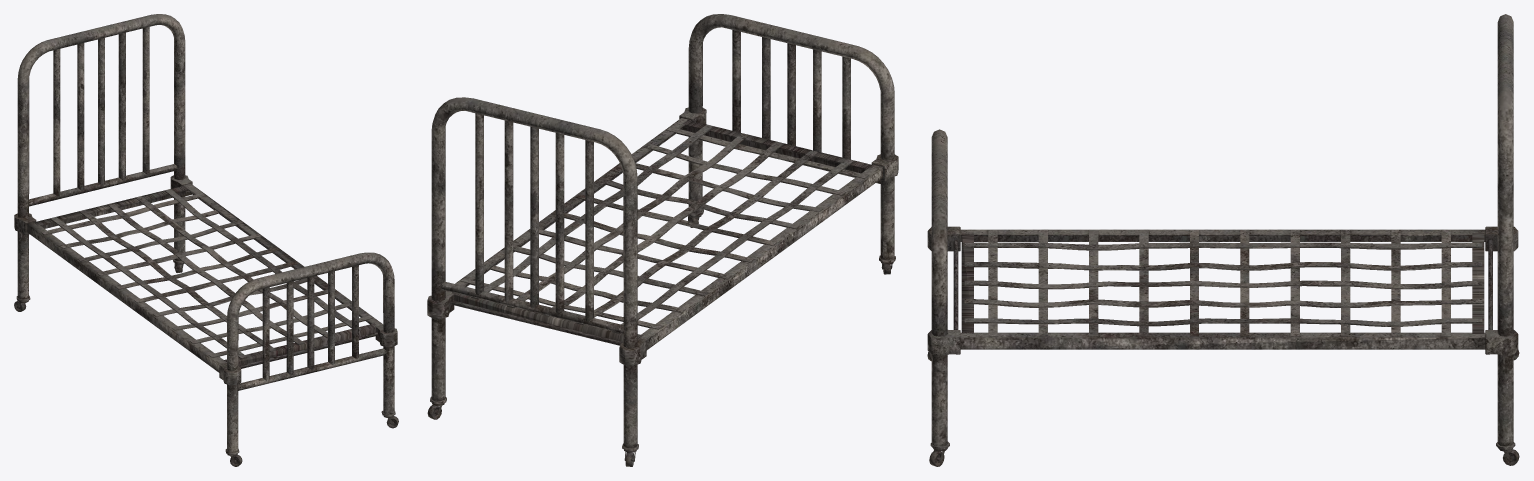
File: prop_bed.glb
3 views of the same model, side by side, from view 1: azimuth 30°, elevation 25°; view 2: azimuth 150°, elevation 25°; view 3: azimuth 270°, elevation 25° (orthographic). The views are drawn at different scales.
Parts seen in each view (by area): view 1: bed-material; view 2: bed-material; view 3: bed-material.
Boxes of the visible parts, x1=… form: bed-material: x1=14, y1=14, x2=398, y2=466; bed-material: x1=427, y1=14, x2=898, y2=466; bed-material: x1=927, y1=14, x2=1519, y2=466.
Bounding box in the file's own units: 0.8071 × 1.19 × 1.77.
Materials: 1 (1 with a texture image).
